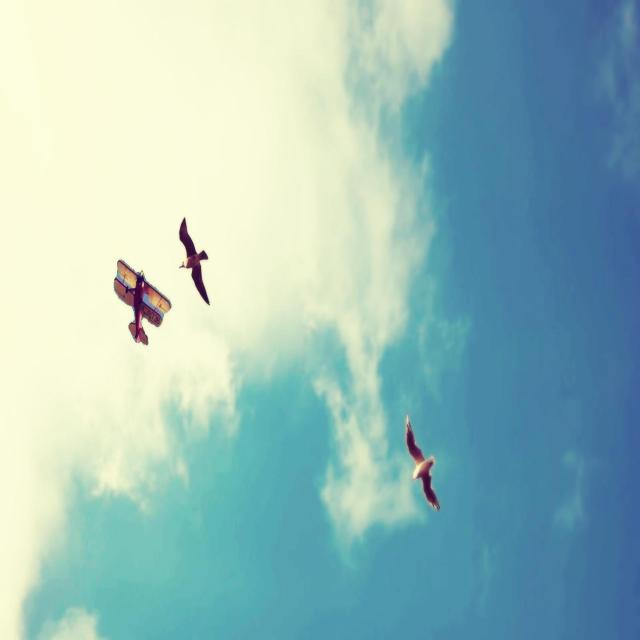airplane: (114, 258, 172, 346)
